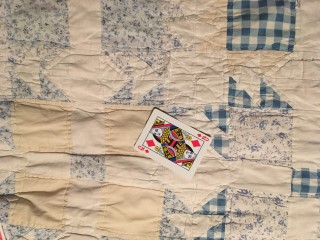QueenOfDiamonds: (134, 109, 212, 181)
